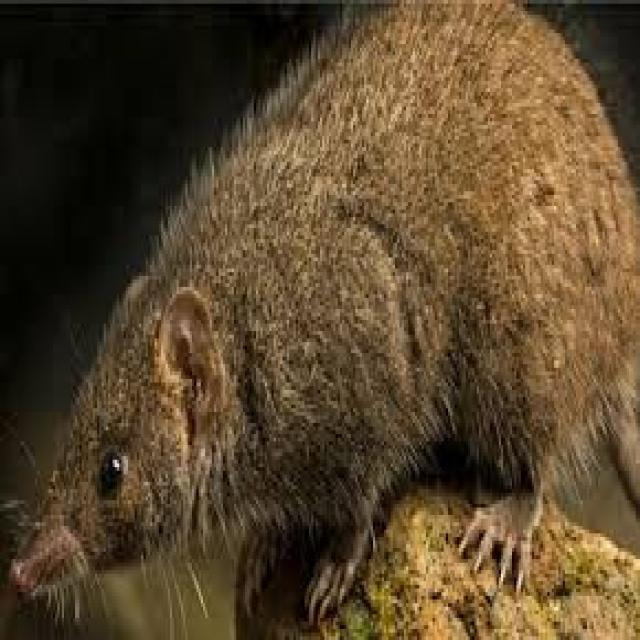Rat: (4, 6, 631, 621)
